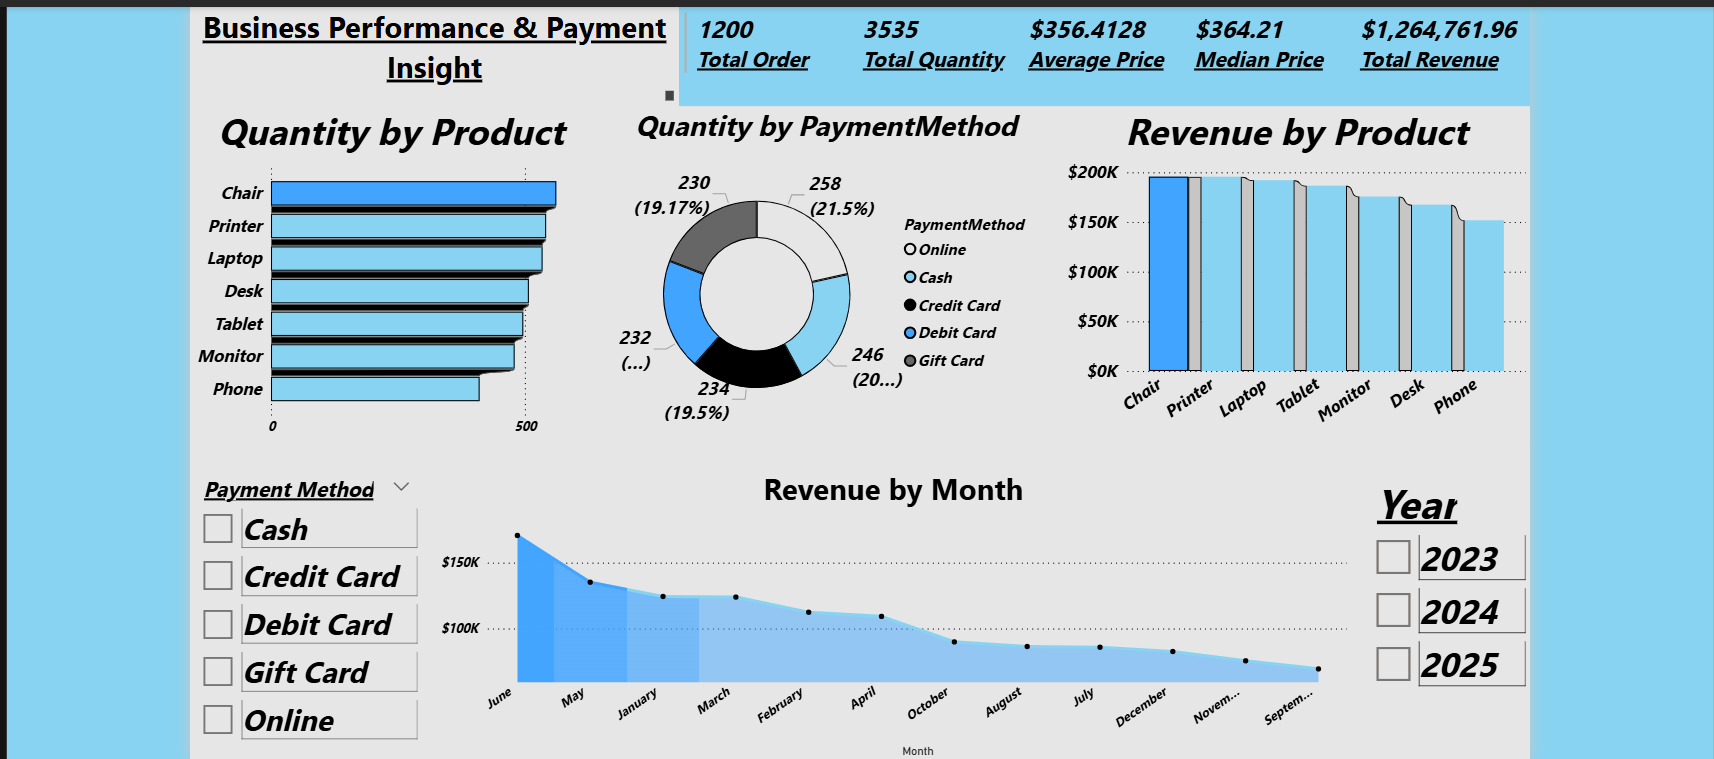

The dashboard page shown, as its layout file describes it:
{"tool":"powerbi","page":{"name":"Page 1","canvas":[1280,720],"ordinal":0},"visuals":[{"type":"columnChart","title":"Revenue by Product","fields":{"Category":["Sheet1.Product"],"Y":["Sum(Sheet1.Revenue)"]},"box":[832.2,94.5,448.3,323.7],"z":0},{"type":"barChart","title":"Quantity by Product","fields":{"Y":["Sum(Sheet1.Quantity)"],"Category":["Sheet1.Product"]},"box":[0,94.5,383.9,323.7],"z":1000},{"type":"donutChart","title":"Quantity by PaymentMethod","fields":{"Category":["Sheet1.PaymentMethod"],"Y":["CountNonNull(Sheet1.Quantity)"]},"box":[395.3,94.5,424,323.7],"z":2000},{"type":"textbox","title":"Business Performance & Payment Insight","box":[0,0,467,94.5],"z":3000},{"type":"slicer","fields":{"Values":["Sheet1.Year"]},"box":[1120.1,441.2,160.4,279.3],"z":4000},{"type":"slicer","fields":{"Values":["Sheet1.PaymentMethod"]},"box":[0,441.2,222,279.3],"z":5000},{"type":"lineChart","title":" Revenue by Month","fields":{"Y":["Sum(Sheet1.Revenue)"],"Category":["Sheet1.Month"]},"box":[233.5,441.2,876.6,279.3],"z":6000},{"type":"multiRowCard","fields":{"Values":["Sheet1.OrderID","Sum(Sheet1.Quantity)","Sheet1.Average Price","Sheet1.Median Price","Sum(Sheet1.Revenue)"]},"box":[467,0,813.6,94.5],"z":7000}]}

Visuals, with their boxes on the page's 1280x720 design canvas (x1, y1, x2, y2). These are canvas units, not pixel positions in the 1714x759 screenshot, which may show the page scaled, cropped or inside an application window:
"Revenue by Product" columnChart: region(832, 94, 1280, 418)
"Quantity by Product" barChart: region(0, 94, 384, 418)
"Quantity by PaymentMethod" donutChart: region(395, 94, 819, 418)
"Business Performance & Payment Insight" textbox: region(0, 0, 467, 94)
slicer - Sheet1.Year: region(1120, 441, 1280, 720)
slicer - Sheet1.PaymentMethod: region(0, 441, 222, 720)
" Revenue by Month" lineChart: region(234, 441, 1110, 720)
multiRowCard - Sheet1.OrderID x Sum(Sheet1.Quantity): region(467, 0, 1281, 94)
